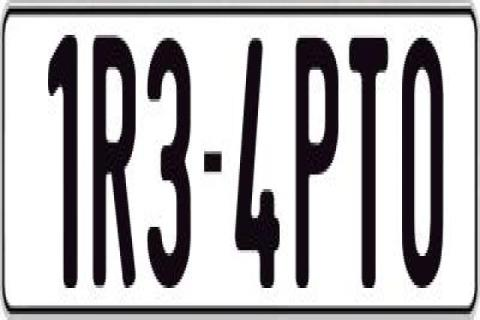0: (144, 32, 190, 288), (232, 32, 276, 296), (402, 32, 444, 291), (48, 35, 76, 303)
P: (294, 32, 342, 282)
R: (92, 32, 140, 296)
T: (347, 32, 393, 296)
